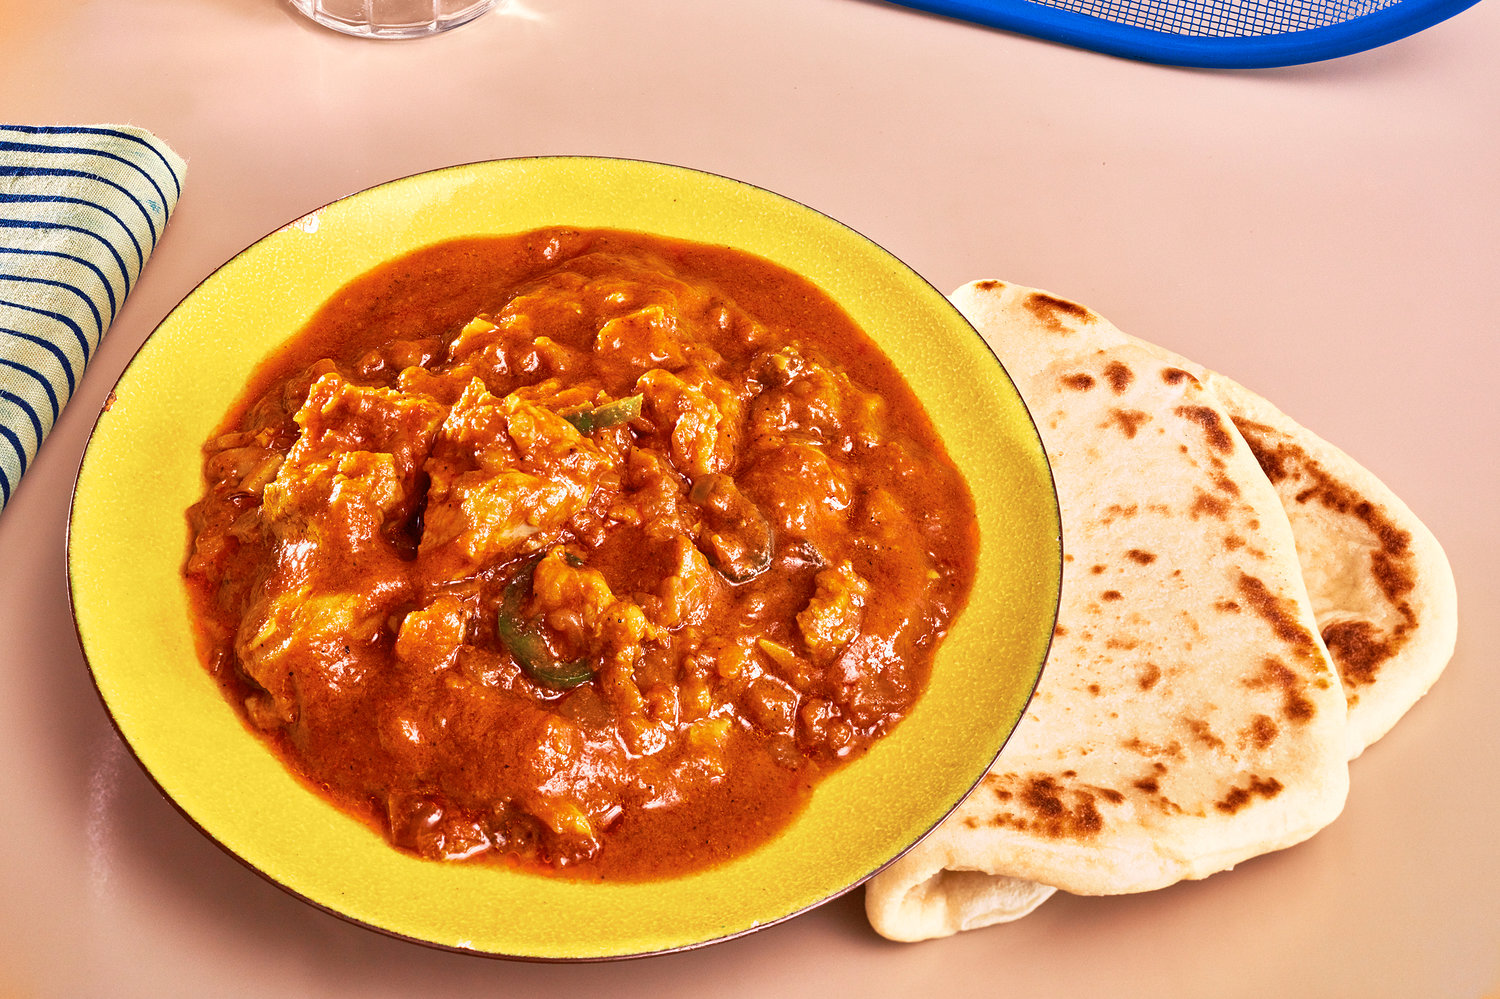chicken_curry: (217, 278, 918, 834)
